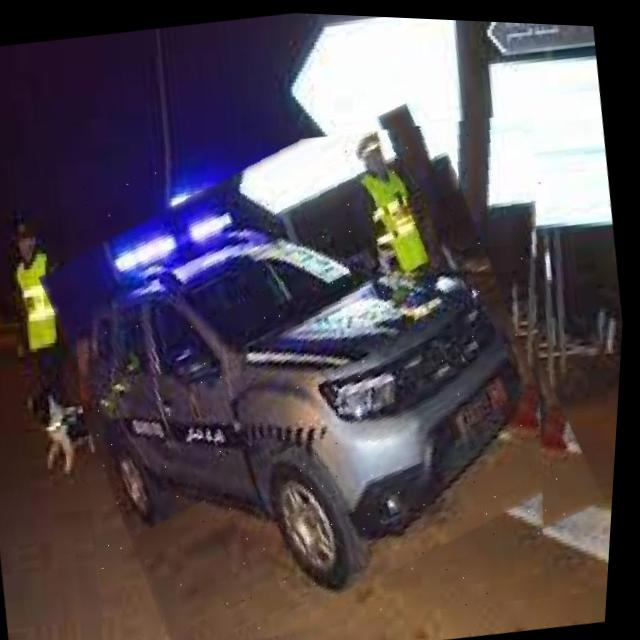gendarme car: (12, 109, 572, 636)
